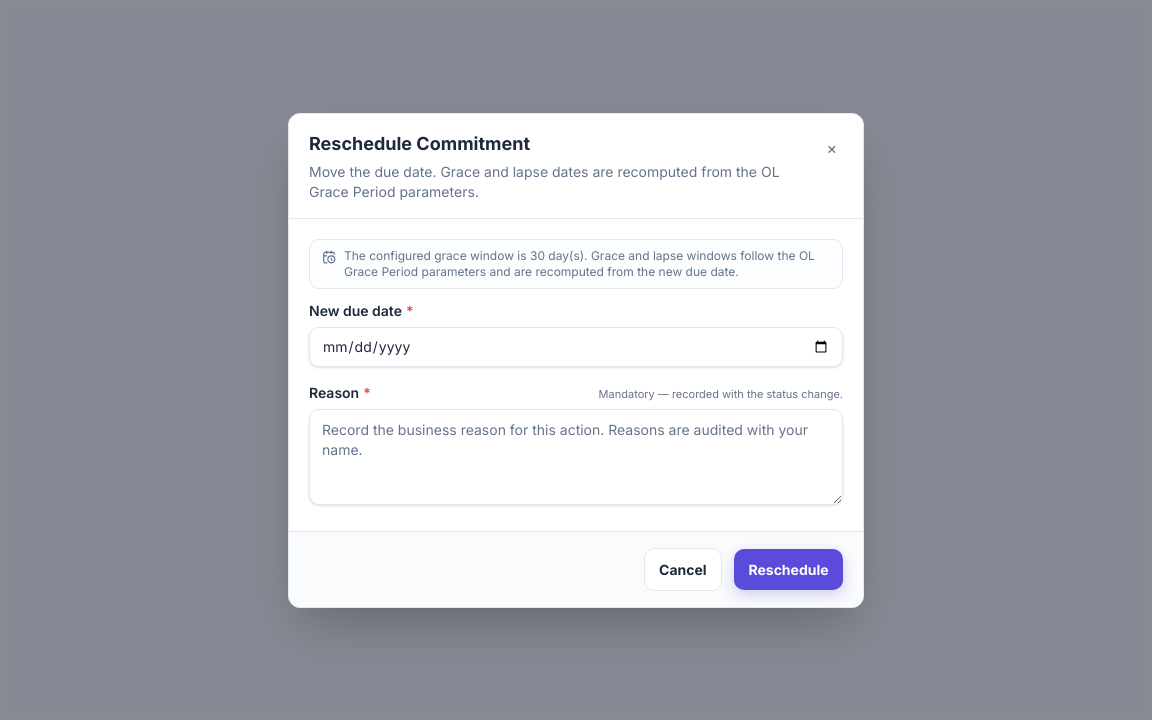
Test: LifecycleActionModal — validation per action › reschedule requires a mandatory reason
Click the button with test id "lifecycle-submit-reschedule" at (788, 569), box [734, 548, 843, 590]
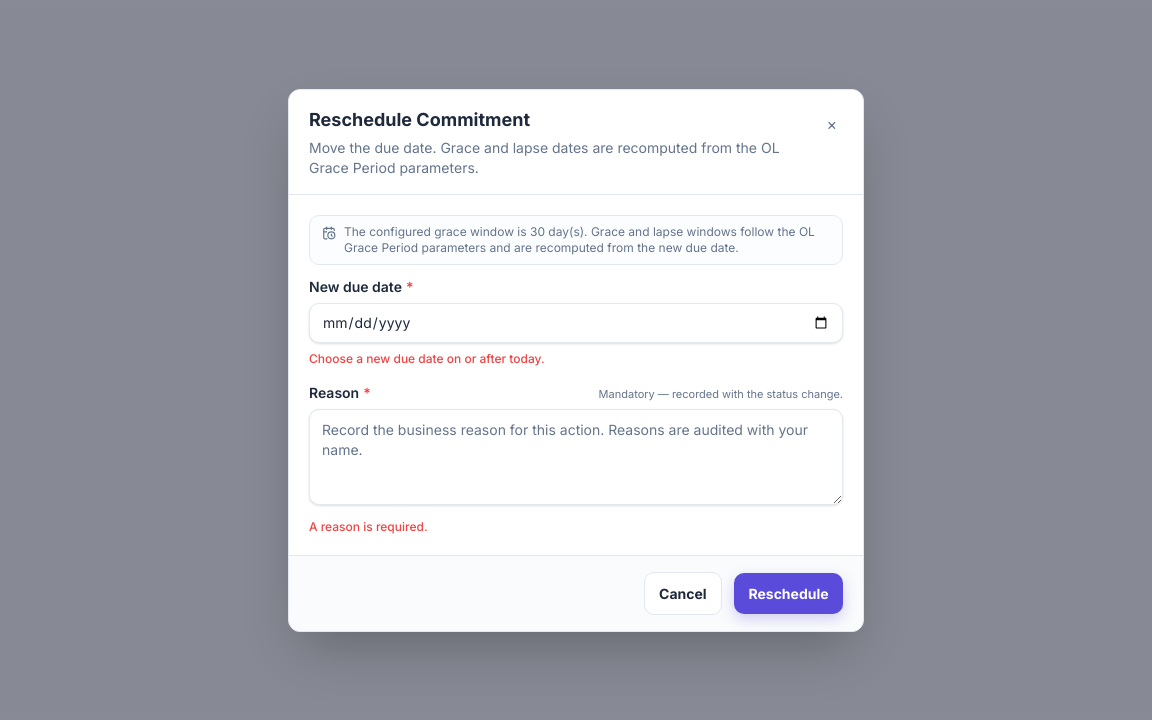
Result: the text "A reason is required." is shown at [309, 518, 428, 534]
